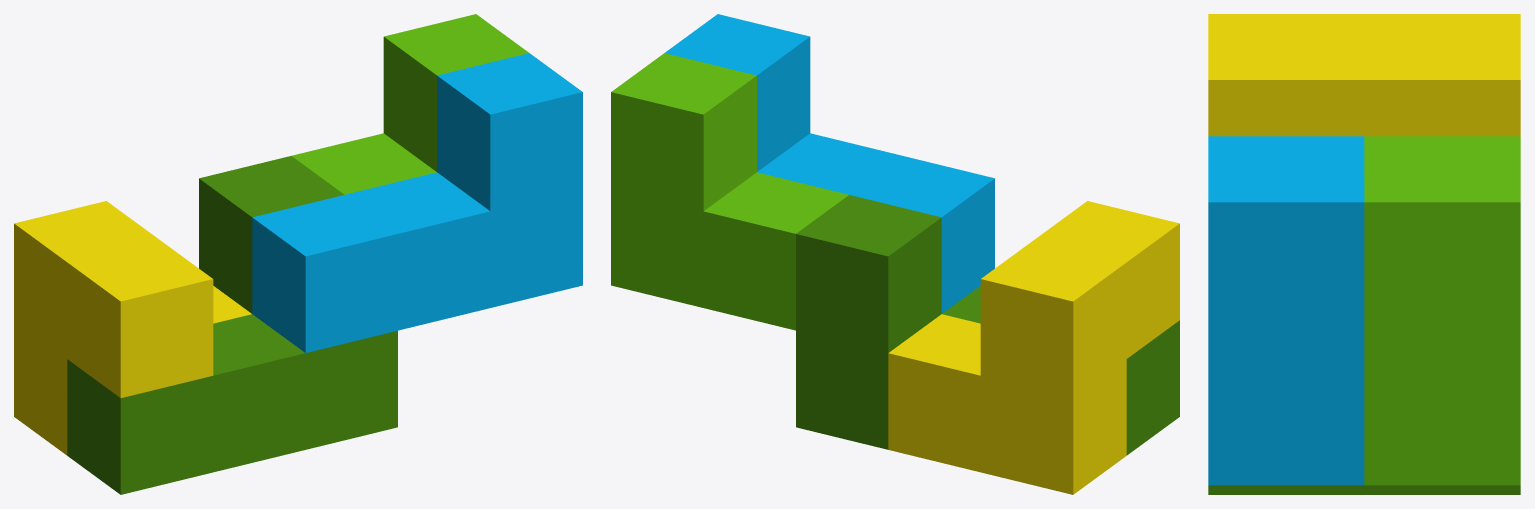
3 views of the same model, side by side, from view 1: azimuth 30°, elevation 25°; view 2: azimuth 150°, elevation 25°; view 3: azimuth 270°, elevation 25° (orthographic). The views are drawn at different scales.
Visible parts, largest first — view 1: mergedBlocks(Clone); view 2: mergedBlocks(Clone); view 3: mergedBlocks(Clone).
Boxes of the visible parts, <box> form: mergedBlocks(Clone): <box>14,14,582,494</box>; mergedBlocks(Clone): <box>611,14,1179,494</box>; mergedBlocks(Clone): <box>1208,14,1520,494</box>.
Bounding box in the file's own units: 5 × 3 × 2.
4 materials, 4 textured.
